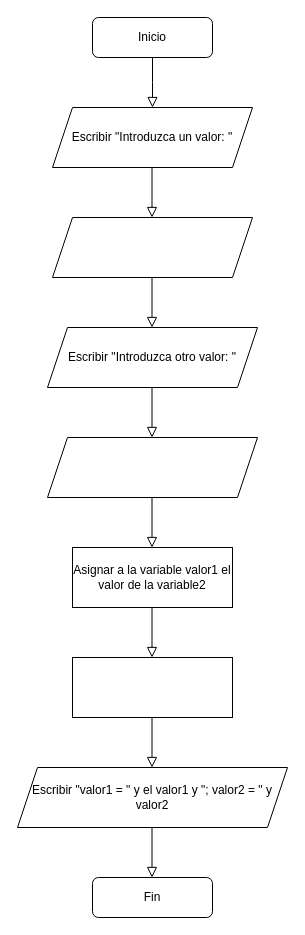
Image size: 305x935. Some labels were removed from this diagram. Each missing label, with the centre of its shape:
Asignar a la variable valor2 el valor de la variable valor1: (x=152, y=687)
Poner el valor introducido en la variable valor1: (x=152, y=247)
Poner el valor introducido en la variable valor2: (x=152, y=467)
